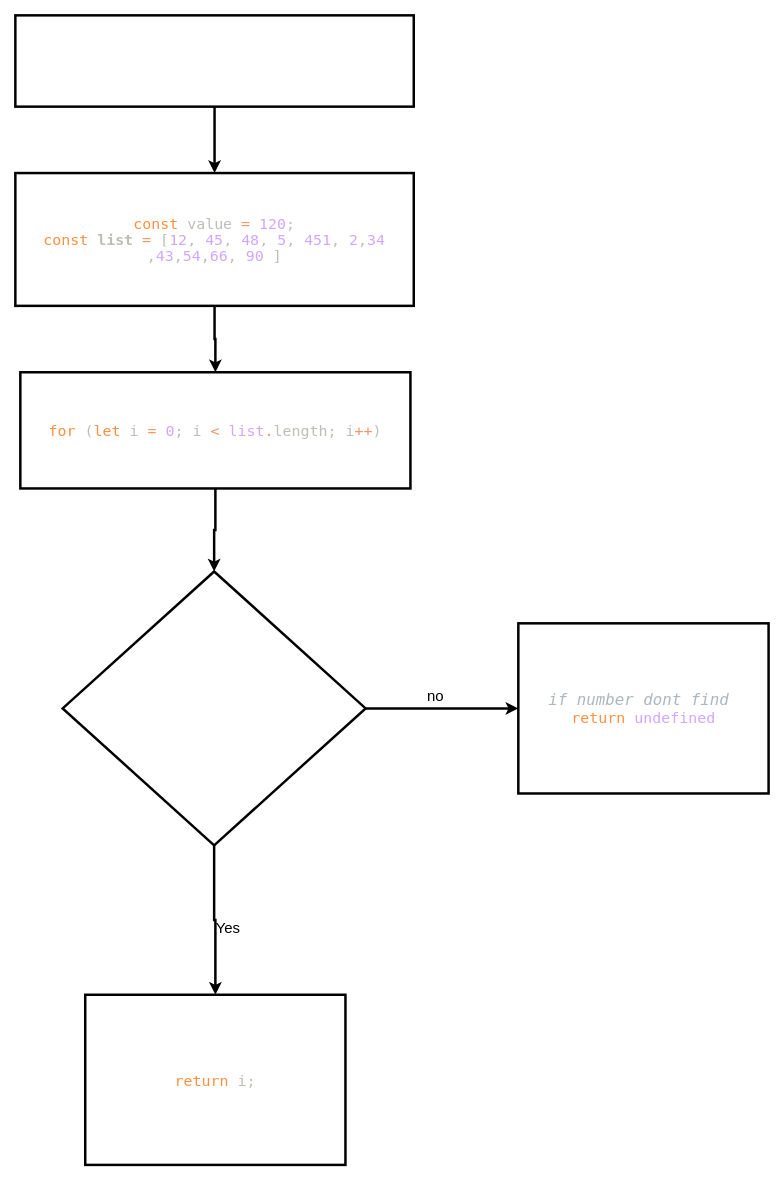
This 784x1180 diagram has some shape labels left out. Here are the shapes that lost their labels. From the top down, the box of each, then its label:
(14, 14, 415, 107): Start
(61, 570, 366, 846): if list [i] === value
